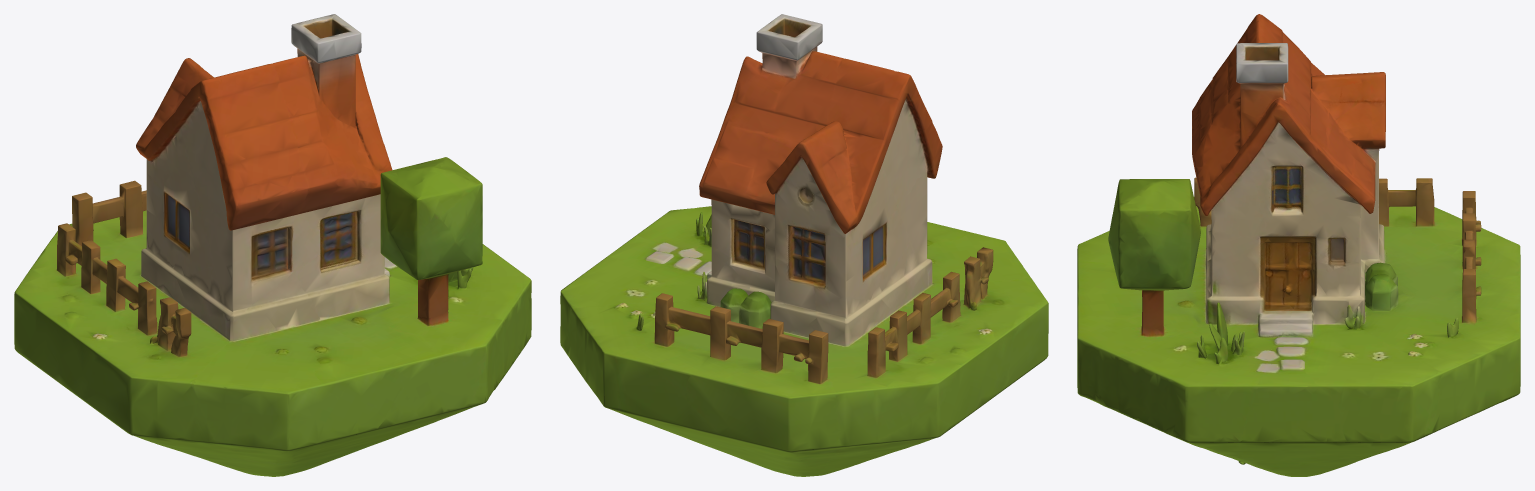
File: home.glb
3 renders of one model, left to right at view 1: azimuth 30°, elevation 25°; view 2: azimuth 150°, elevation 25°; view 3: azimuth 270°, elevation 25°, orthographic. The views are drawn at different scales.
Visible parts, largest first — view 1: tripo_node_cf3a4a3b-90af-43ba-9d87-70d6f01ecd4b; view 2: tripo_node_cf3a4a3b-90af-43ba-9d87-70d6f01ecd4b; view 3: tripo_node_cf3a4a3b-90af-43ba-9d87-70d6f01ecd4b.
Part boxes in pixels (bbox=[...]): tripo_node_cf3a4a3b-90af-43ba-9d87-70d6f01ecd4b: bbox=[14, 14, 531, 476]; tripo_node_cf3a4a3b-90af-43ba-9d87-70d6f01ecd4b: bbox=[560, 14, 1048, 476]; tripo_node_cf3a4a3b-90af-43ba-9d87-70d6f01ecd4b: bbox=[1077, 14, 1520, 476].
Bounding box in the file's own units: 0.9562 × 0.9999 × 0.9429.
Materials: 1 (1 with a texture image).
